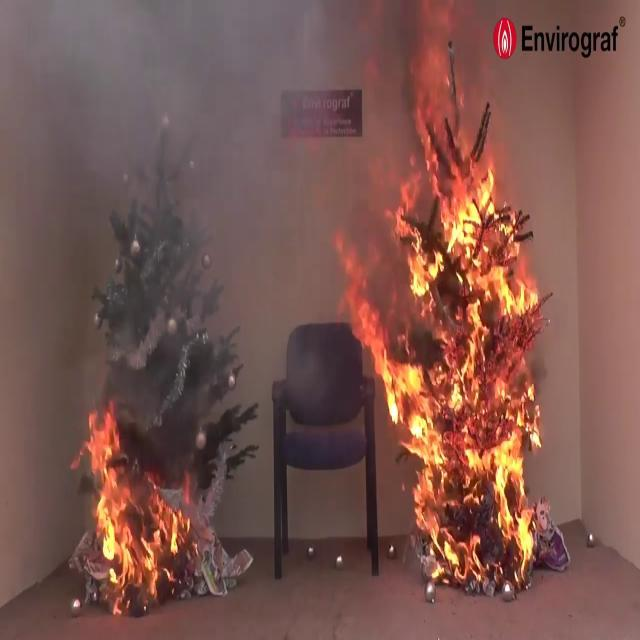Fire: (347, 156, 555, 580), (72, 400, 195, 606)
Smoke: (0, 1, 276, 407)
